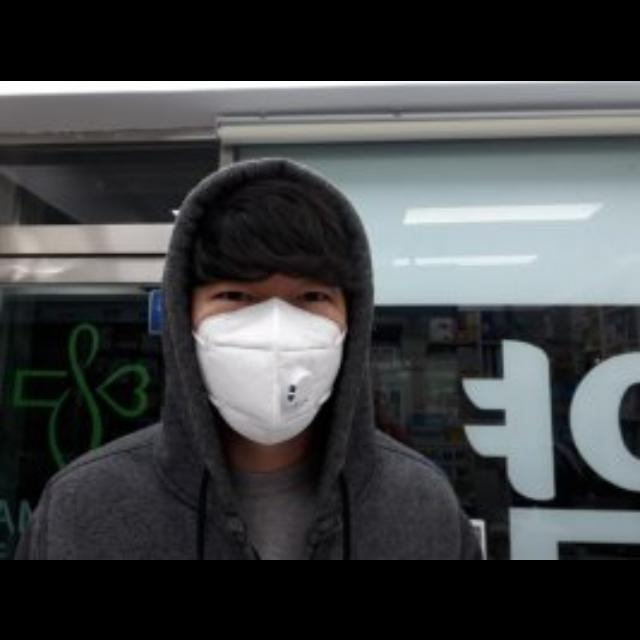masks: (197, 301, 355, 449)
